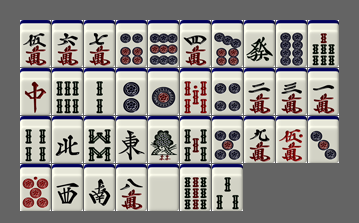0m: (276, 116, 307, 163)
0p: (20, 164, 51, 211)
0s: (180, 68, 211, 115)
1m: (308, 68, 339, 115)
1p: (148, 68, 179, 115)
1s: (148, 116, 179, 163)
1z: (116, 116, 147, 163)
2m: (244, 68, 275, 115)
2p: (116, 68, 147, 115)
2s: (84, 68, 115, 115)
2z: (84, 164, 115, 211)
3m: (276, 68, 307, 115)
3p: (308, 116, 339, 163)
3s: (212, 164, 243, 211)
3z: (52, 164, 83, 211)
4m: (180, 20, 211, 67)
4p: (212, 68, 243, 115)
4s: (20, 116, 51, 163)
4z: (52, 116, 83, 163)
5m: (20, 20, 51, 67)
5p: (212, 116, 243, 163)
5s: (180, 116, 211, 163)
5z: (148, 164, 179, 211)
6m: (52, 20, 83, 67)
6p: (116, 20, 147, 67)
6s: (52, 68, 83, 115)
6z: (244, 20, 275, 67)
7m: (84, 20, 115, 67)
7p: (212, 20, 243, 67)
7s: (308, 20, 339, 67)
7z: (20, 68, 51, 115)
8m: (116, 164, 147, 211)
8p: (276, 20, 307, 67)
8s: (84, 116, 115, 163)
9m: (244, 116, 275, 163)
9p: (148, 20, 179, 67)
9s: (180, 164, 211, 211)
